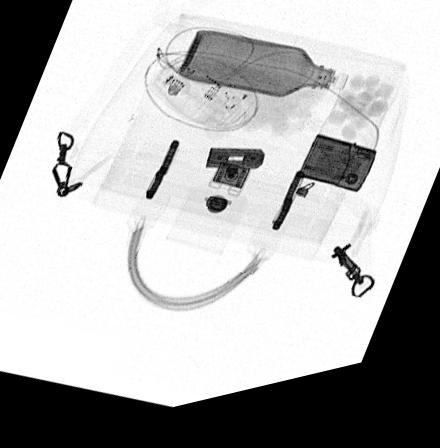Lighter: (297, 148, 377, 209)
